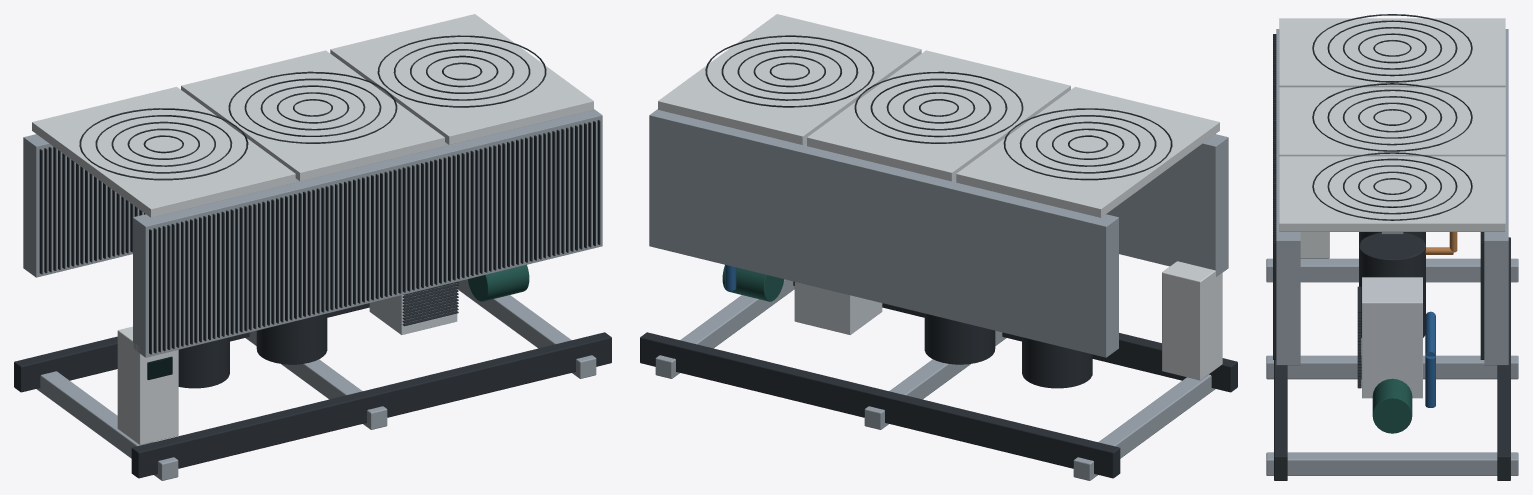
Rendered from Chiller.glb.
The picture shows the model from 3 angles, left to right: view 1: azimuth 30°, elevation 25°; view 2: azimuth 150°, elevation 25°; view 3: azimuth 270°, elevation 25°; orthographic projection. The views are drawn at different scales.
Visible parts, largest first — view 1: Chiller; view 2: Chiller; view 3: Chiller.
Boxes of the visible parts, x1,y1,x2,y2 form: Chiller: (14, 14, 611, 480); Chiller: (640, 14, 1237, 480); Chiller: (1266, 14, 1518, 480).
Size of the model in its own units: 3.4 by 1.87 by 1.65.
